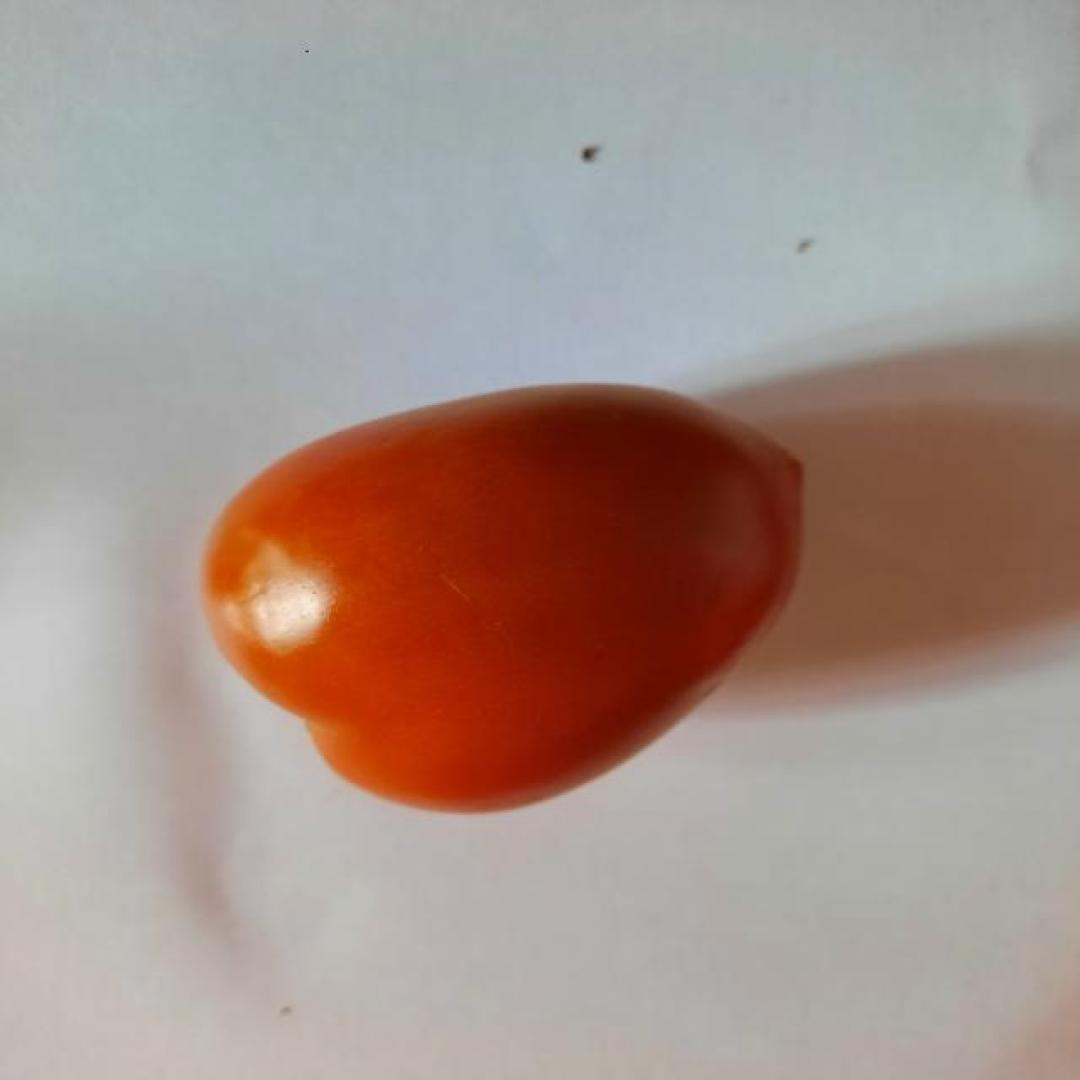matang: (197, 381, 814, 815)
